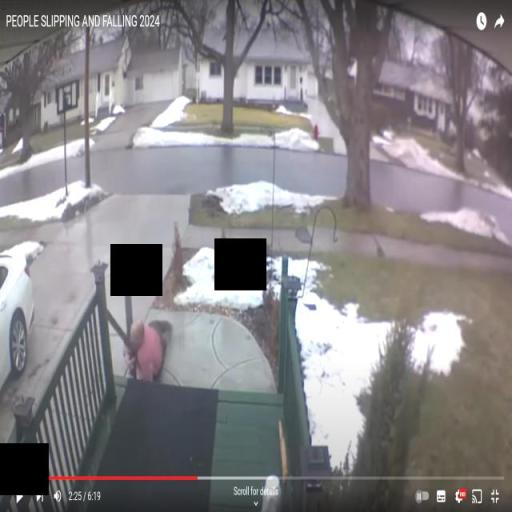Fall: (120, 314, 174, 386)
